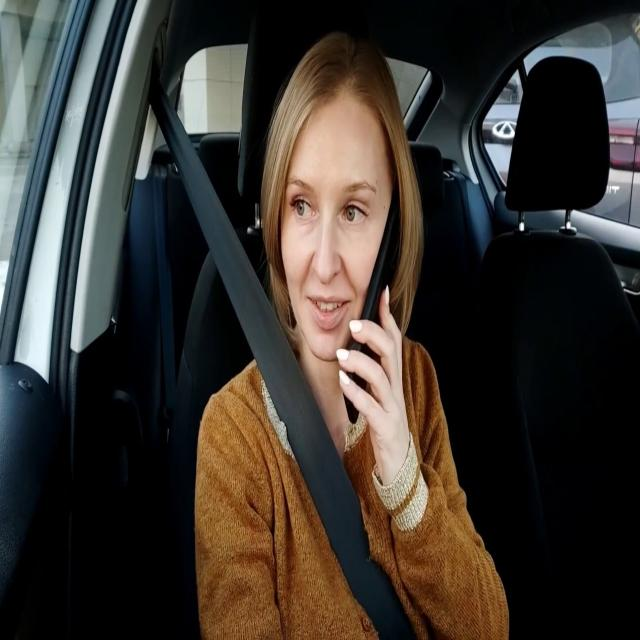phone: (342, 179, 404, 427)
